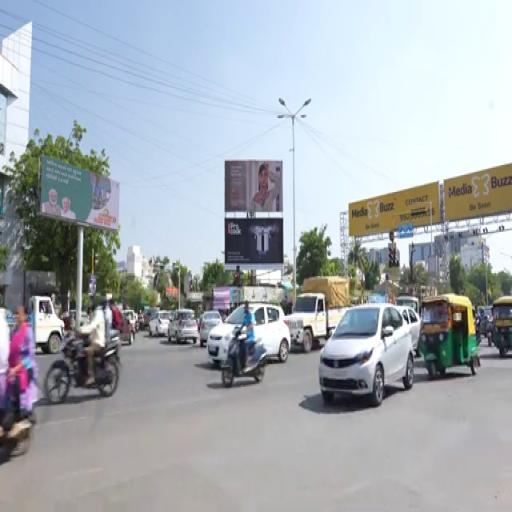Car: (319, 305, 414, 406), (249, 303, 291, 362), (397, 306, 420, 356), (168, 309, 198, 344), (200, 310, 222, 347), (149, 311, 169, 337), (121, 311, 136, 345), (142, 308, 158, 329)
